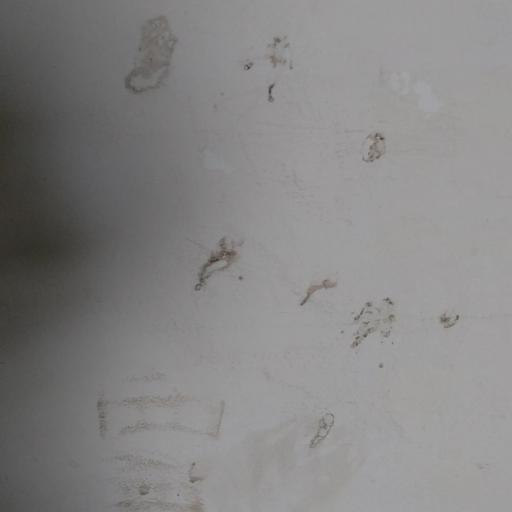stain: (89, 365, 240, 512), (297, 255, 476, 359), (121, 0, 236, 119), (168, 219, 260, 310), (244, 21, 320, 124), (294, 406, 357, 464), (361, 128, 406, 174)
